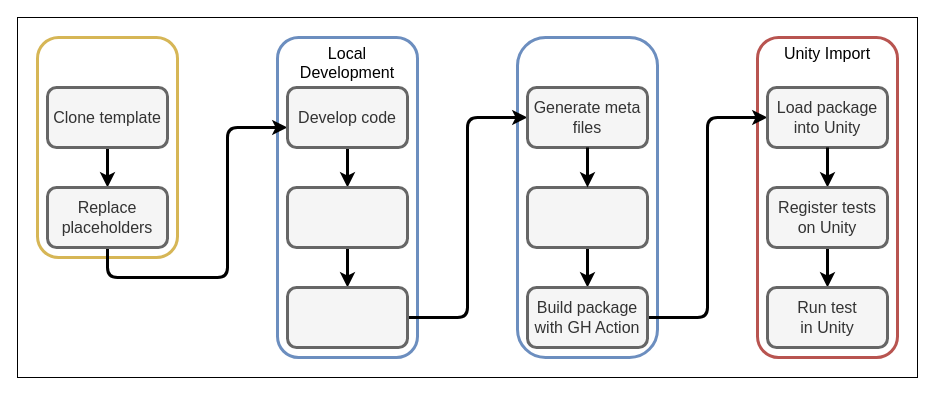
Some shapes in this 935 by 395 pixel diagram are drawn without their labels. The box of each missing label's shape, as (x1, y1, x2, y2) in pixels:
Develop test: (286, 186, 408, 248)
Package Development: (516, 36, 658, 358)
Push changes on master: (526, 186, 648, 248)
Run Test locally: (286, 286, 408, 348)
Setup: (36, 36, 178, 258)
